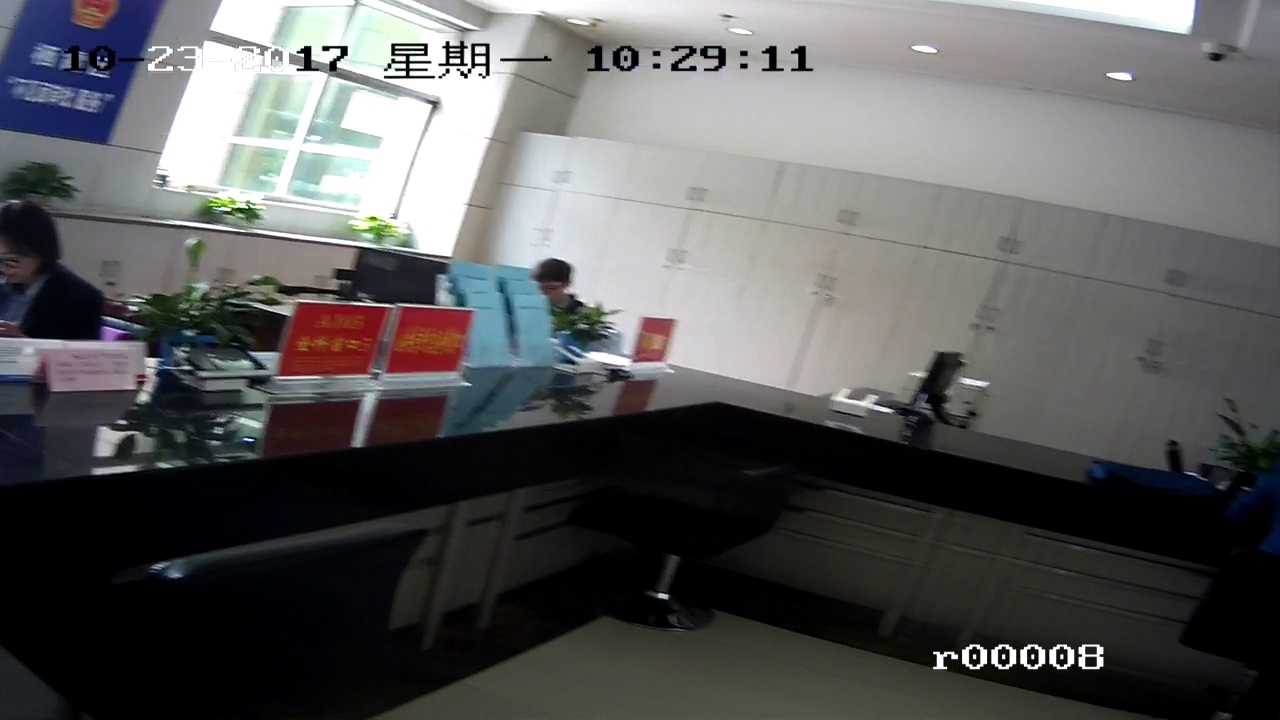billboard: (21, 9, 130, 142), (291, 311, 397, 381), (391, 306, 471, 375)
chair: (584, 440, 784, 617)
person: (6, 201, 88, 324)
